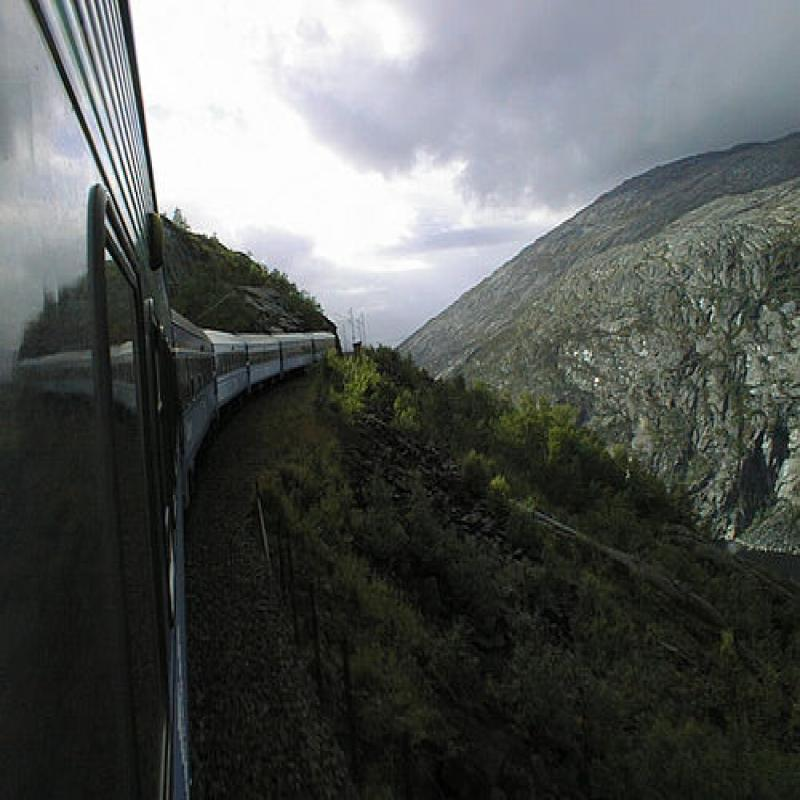train: (1, 1, 340, 799)
